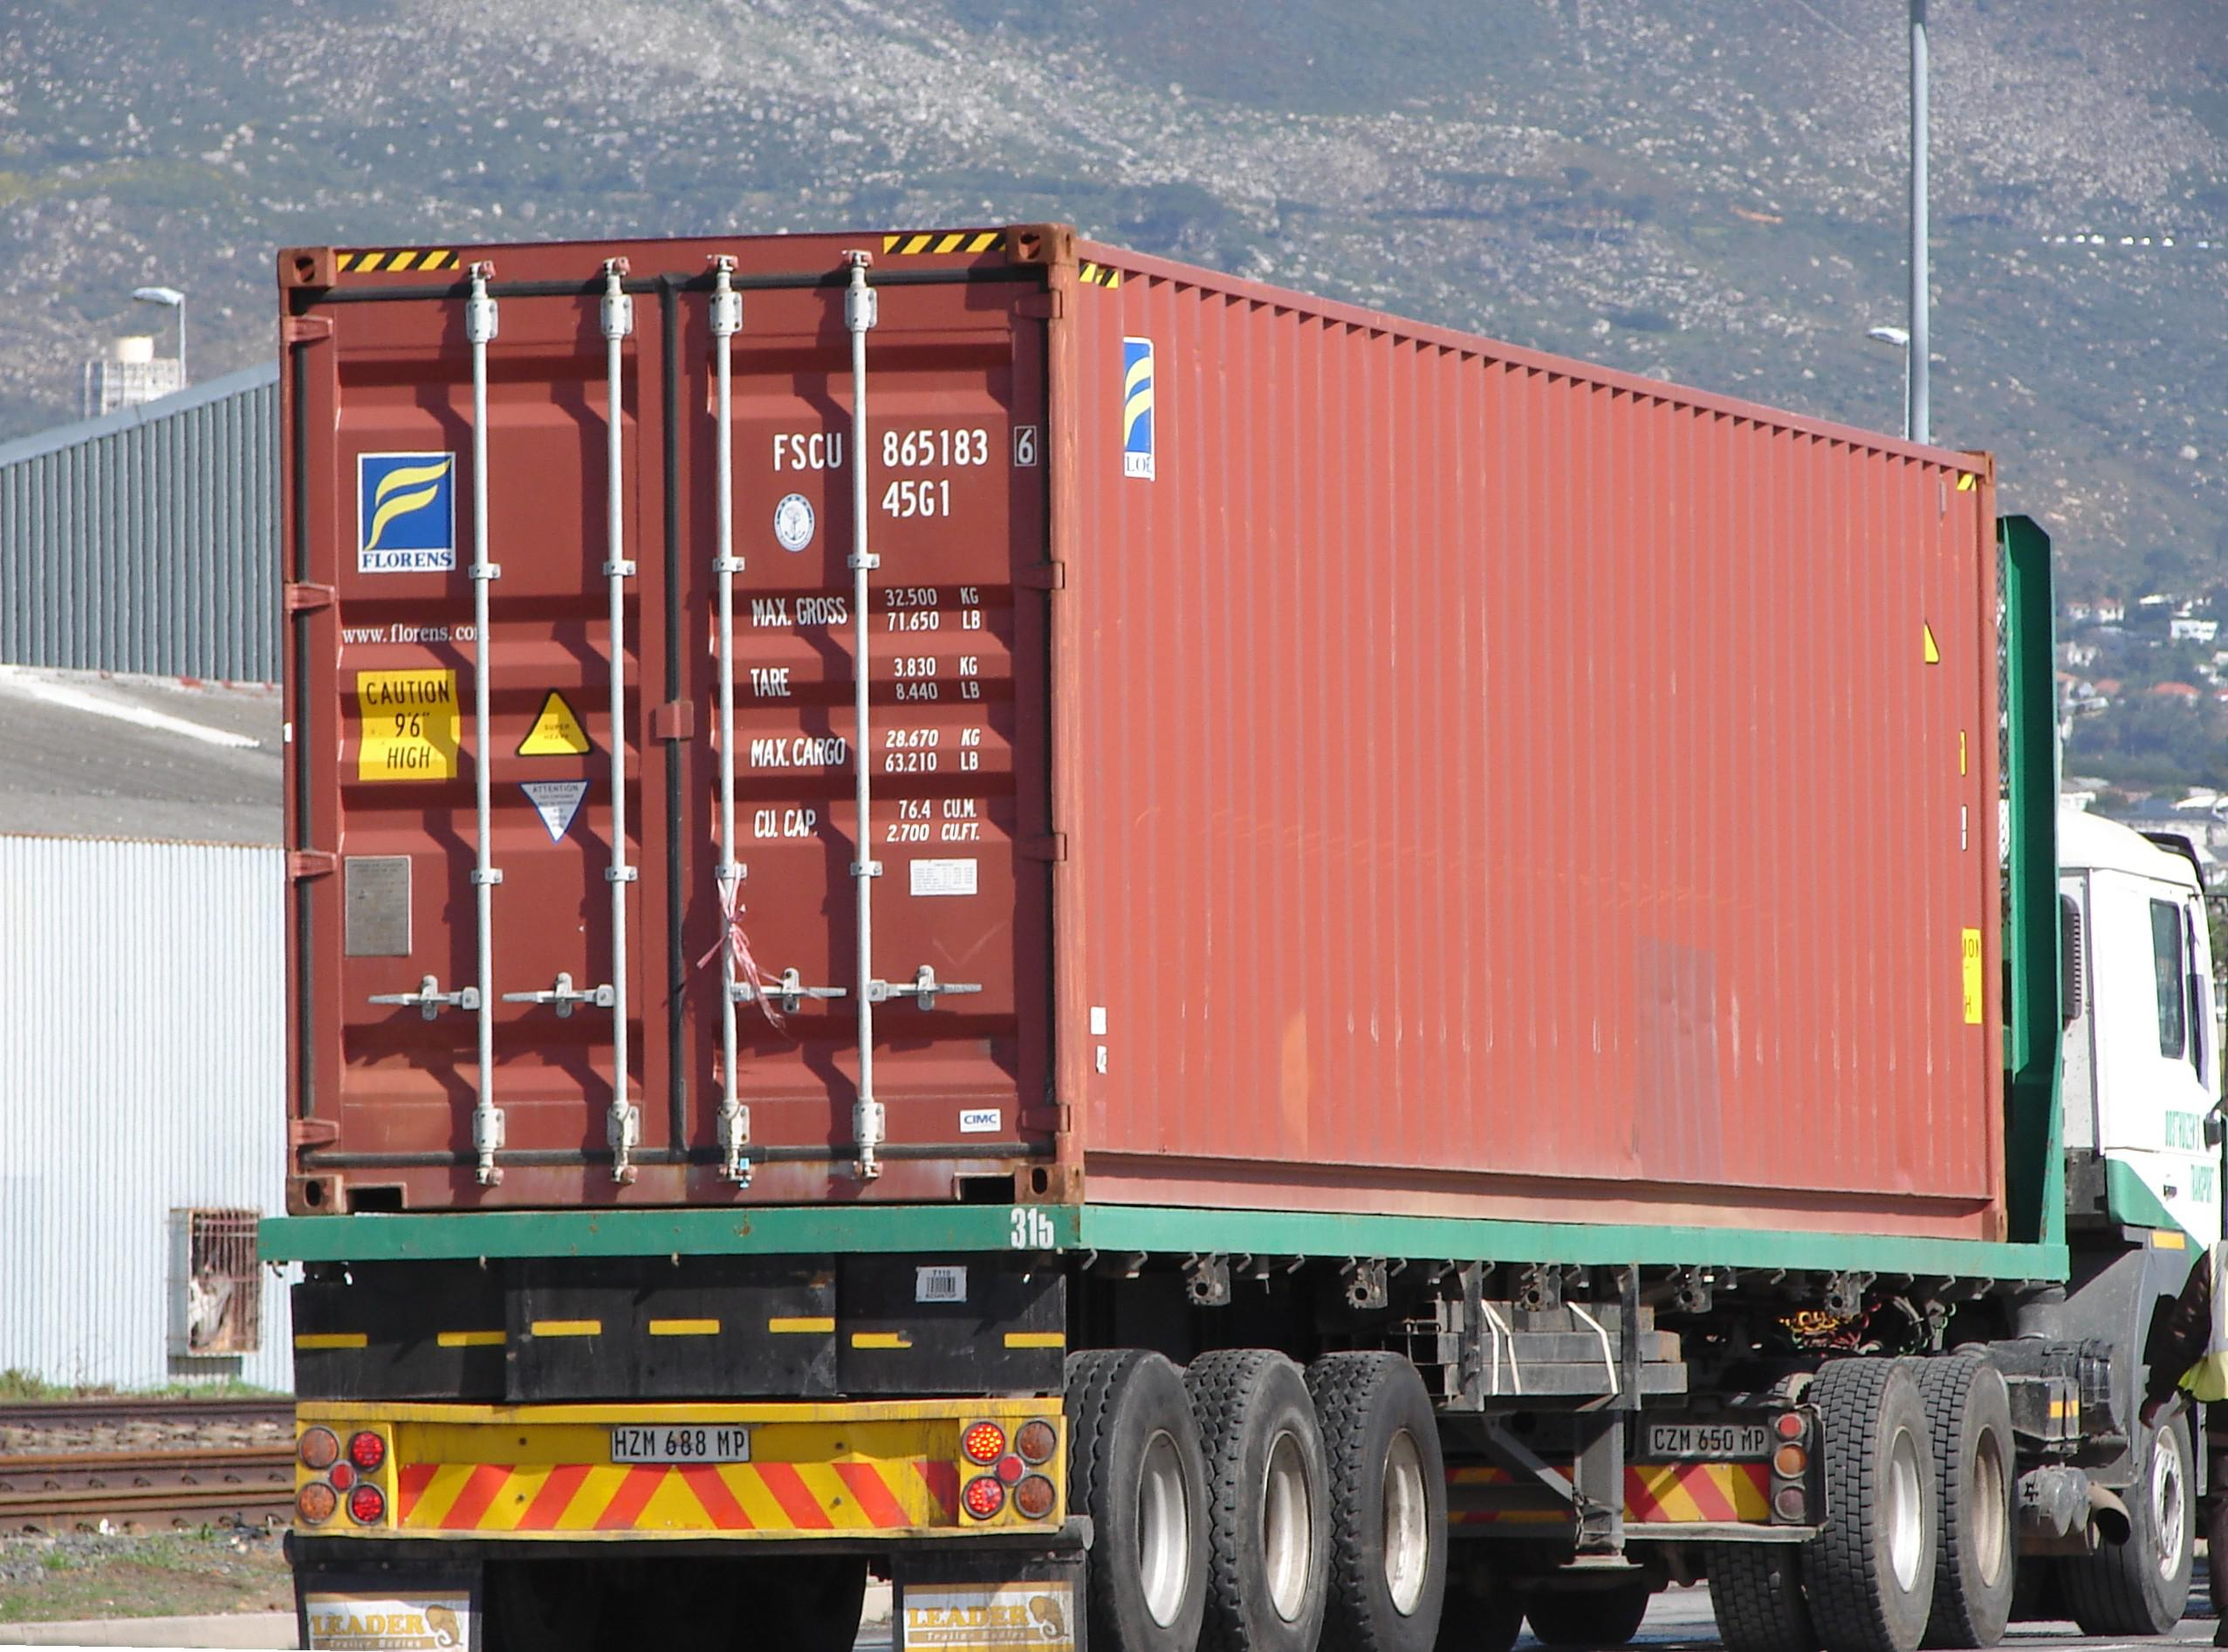ContainerNum: (769, 422, 1041, 522)
